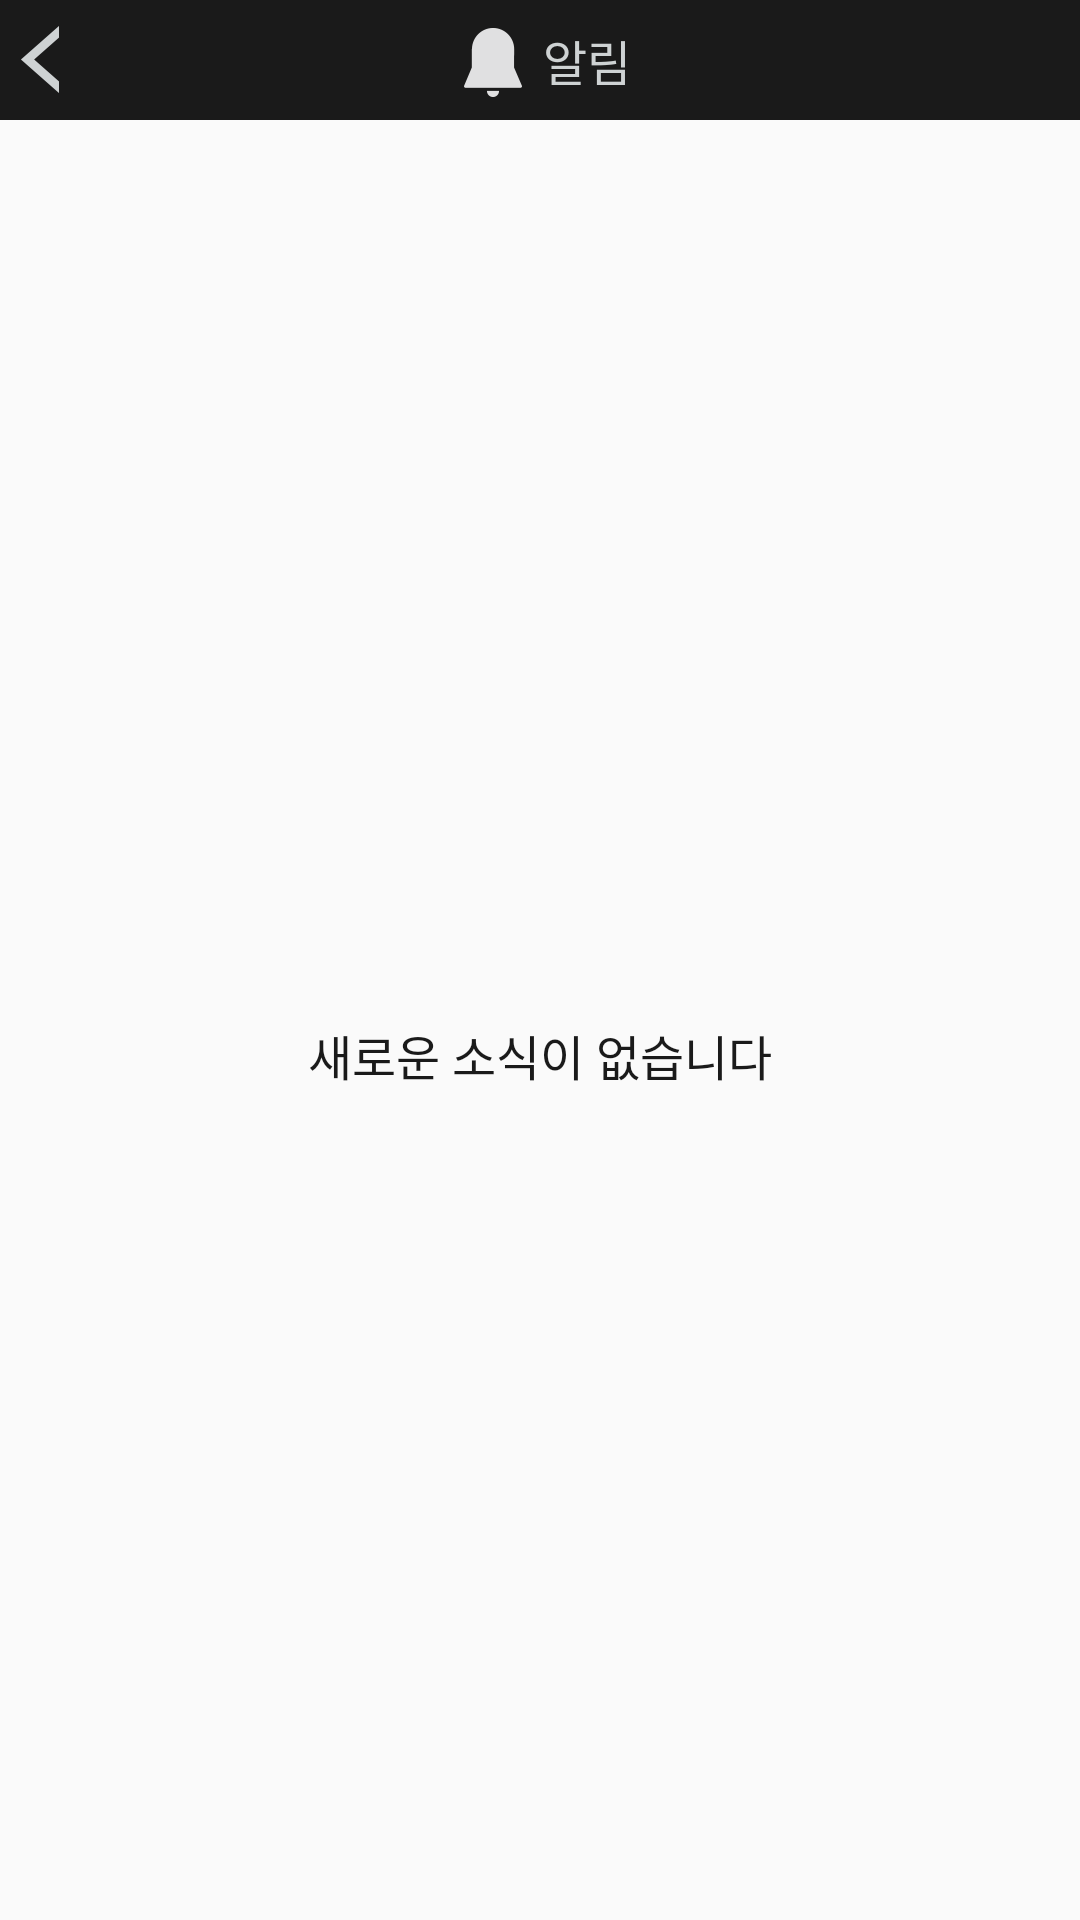

Screen size 1080*1920. Icon name, then its center in pixels as [x,y]:
activity back: [40,59]
